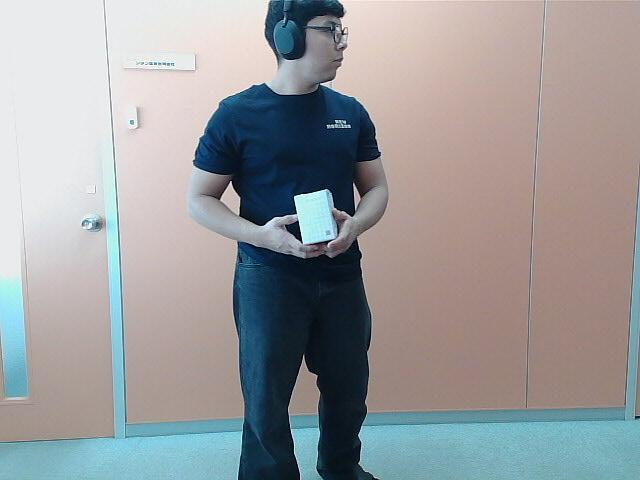Blind_box: (292, 194, 342, 243)
